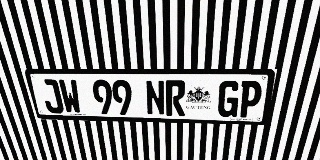9: (91, 80, 115, 114), (111, 80, 133, 115)
G: (217, 80, 241, 117)
J: (39, 79, 65, 113)
N: (145, 80, 165, 116)
P: (237, 81, 264, 118)
R: (165, 80, 186, 116)
W: (58, 79, 83, 114)
